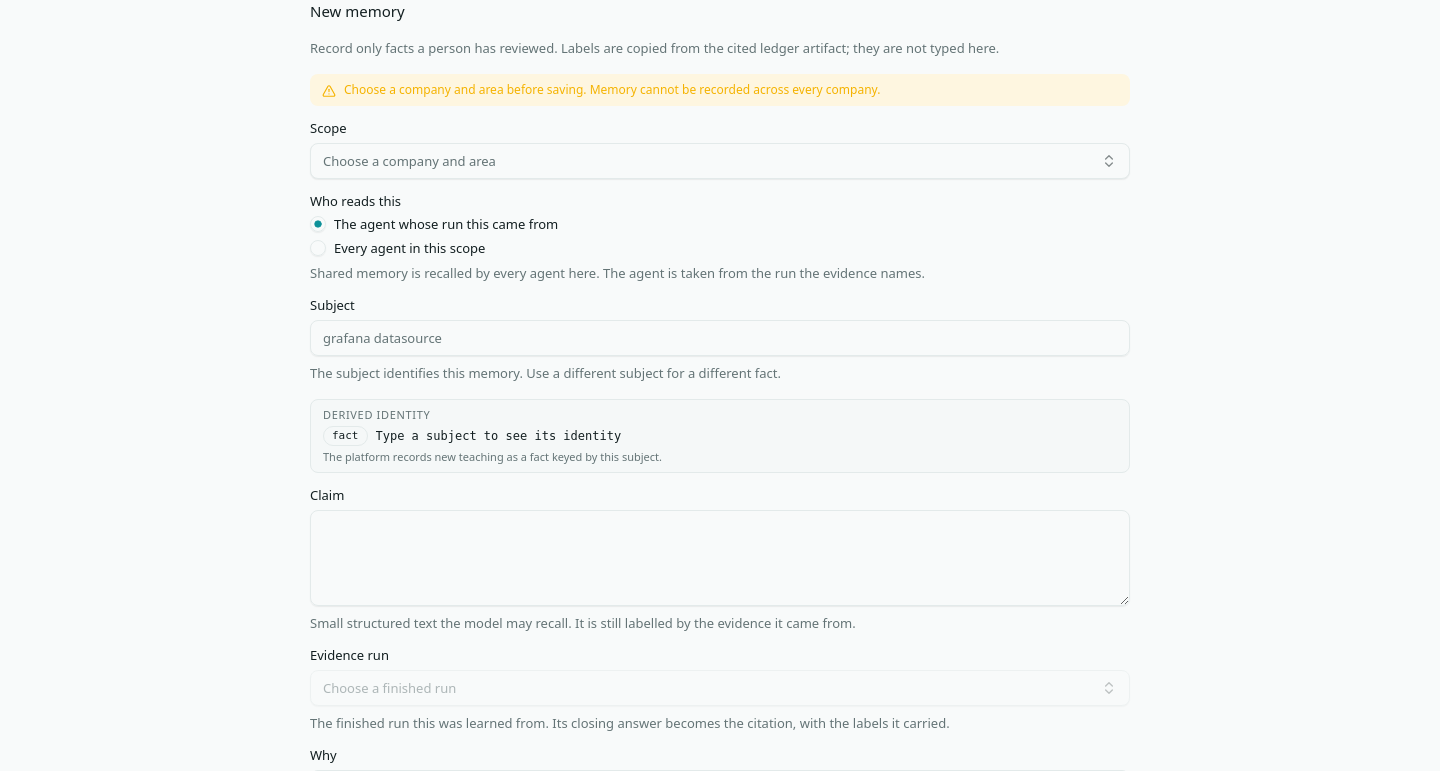
global memory authoring › asks a global viewer to choose one accessible scope
This screenshot has width=1440, height=771.
Check: the message shows "Choose a company and area before saving. Memory cannot be recorded across every company.", box [344, 81, 880, 98]
Click the dropdown named "Scope" at (409, 160), box [310, 143, 1130, 179]
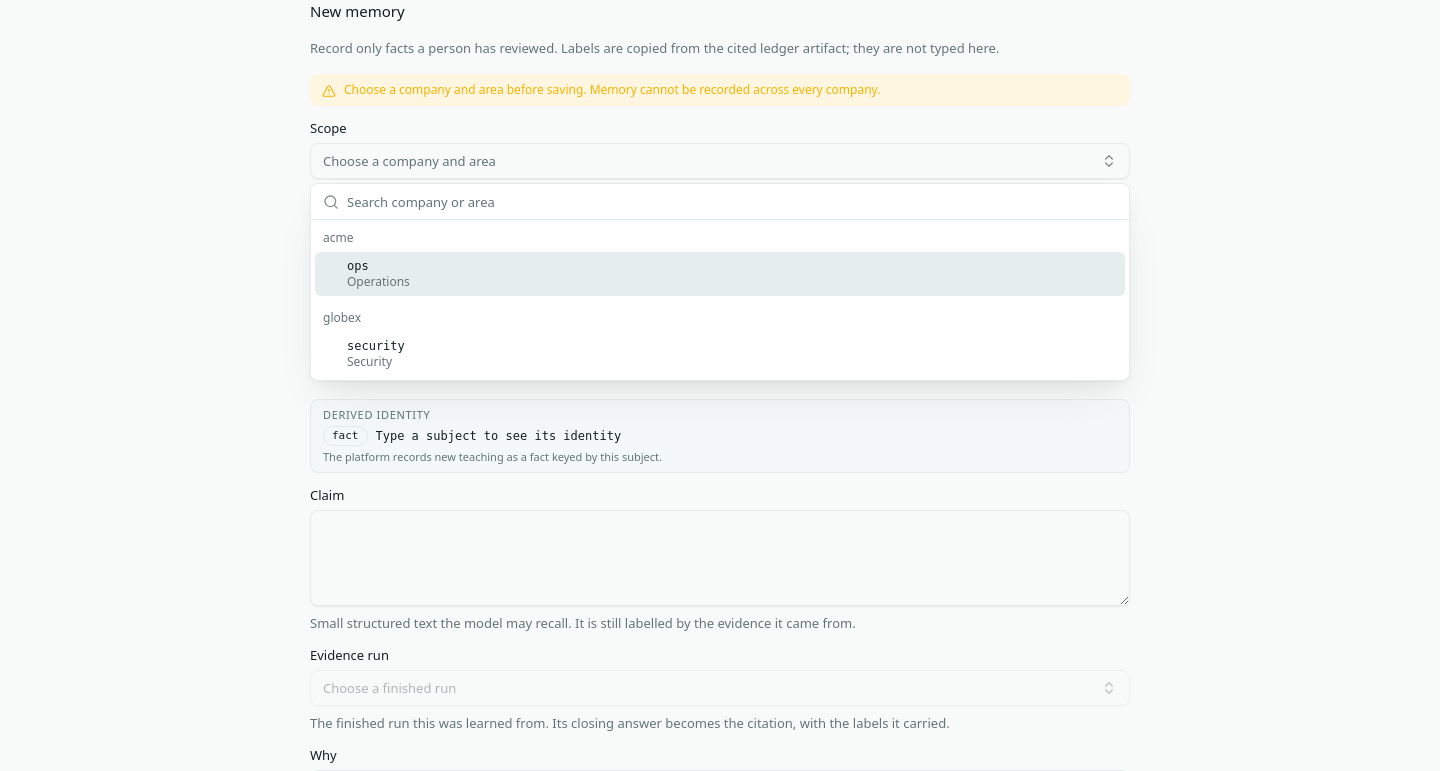
Click the option "ops Operations" at (378, 282), box [315, 252, 1125, 296]
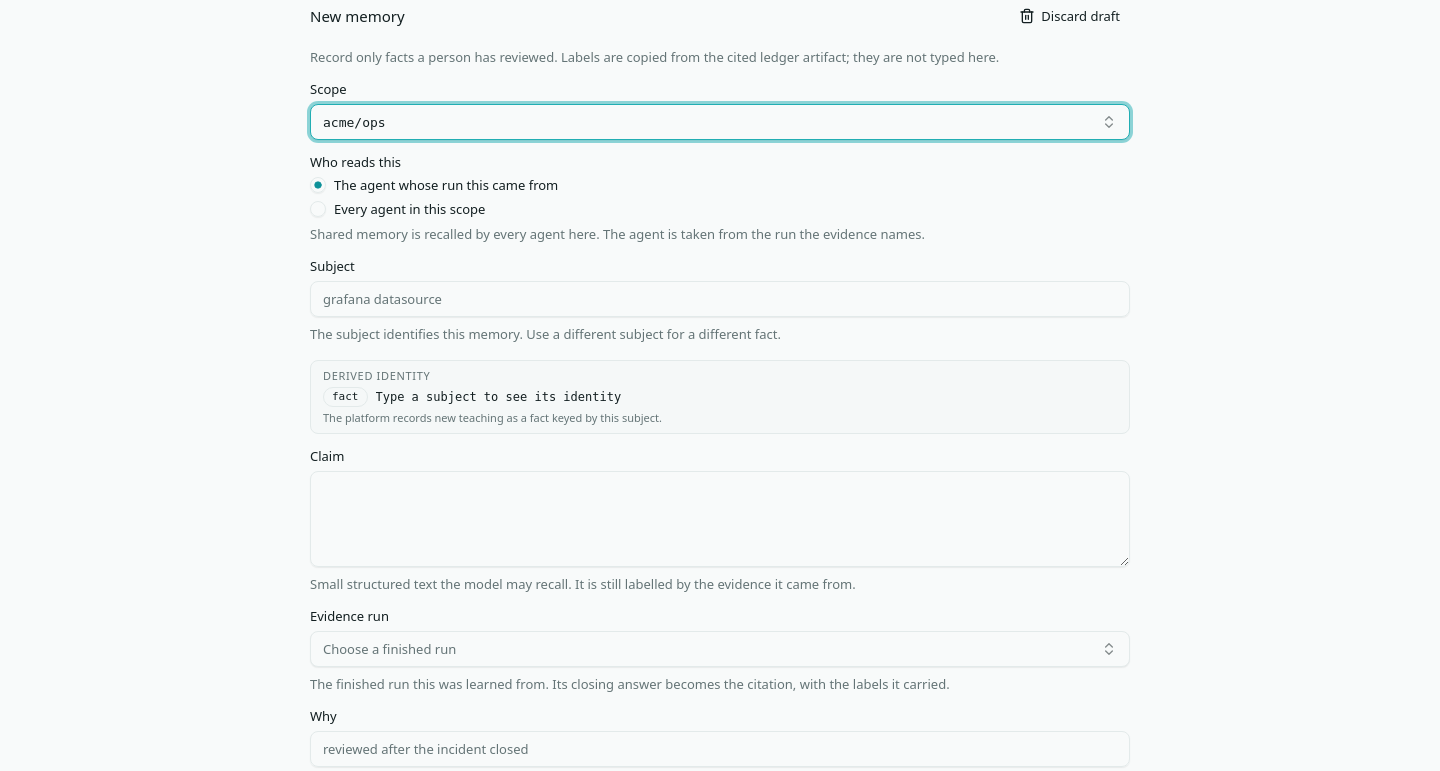
Check: the message "Choose a company and area before saving. Memory cannot be recorded across every" is gone
